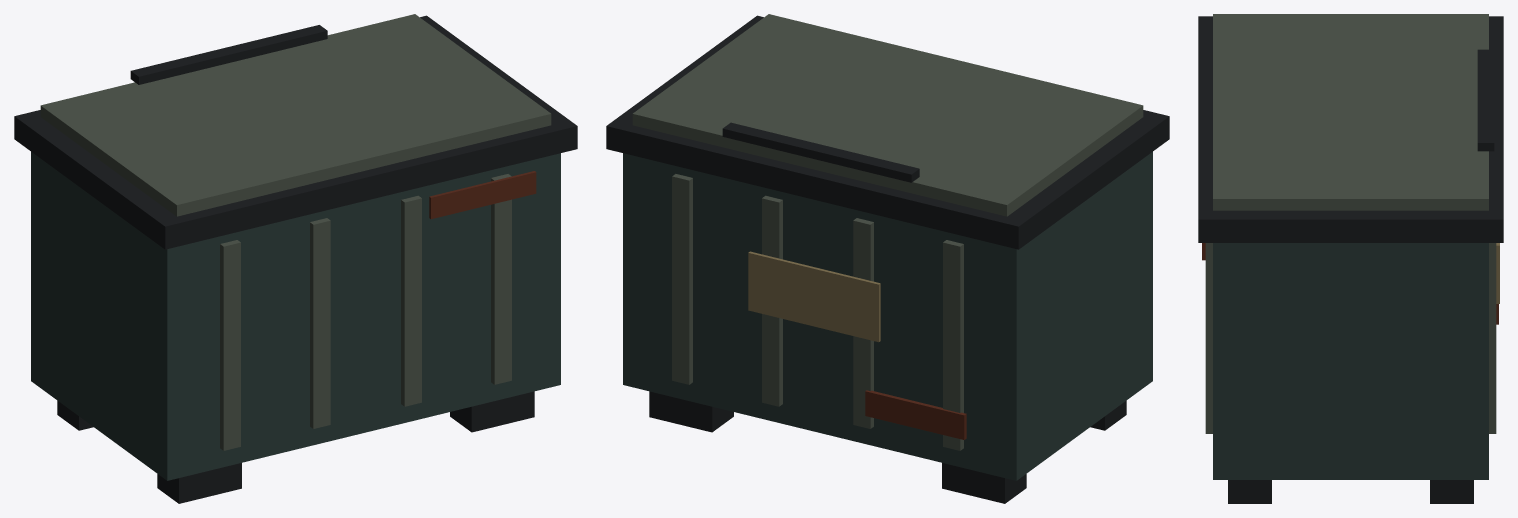
The model's file is dumpster.obj.
3 views of the same model, side by side, from view 1: azimuth 30°, elevation 25°; view 2: azimuth 150°, elevation 25°; view 3: azimuth 270°, elevation 25° (orthographic).
Visible parts, largest first — view 1: dumpster; view 2: dumpster; view 3: dumpster.
Boxes of the visible parts, bbox=[...] form: dumpster: bbox=[14, 14, 577, 503]; dumpster: bbox=[606, 14, 1169, 503]; dumpster: bbox=[1198, 14, 1503, 503].
Bounding box in the file's own units: 2.62 × 1.92 × 1.66.
